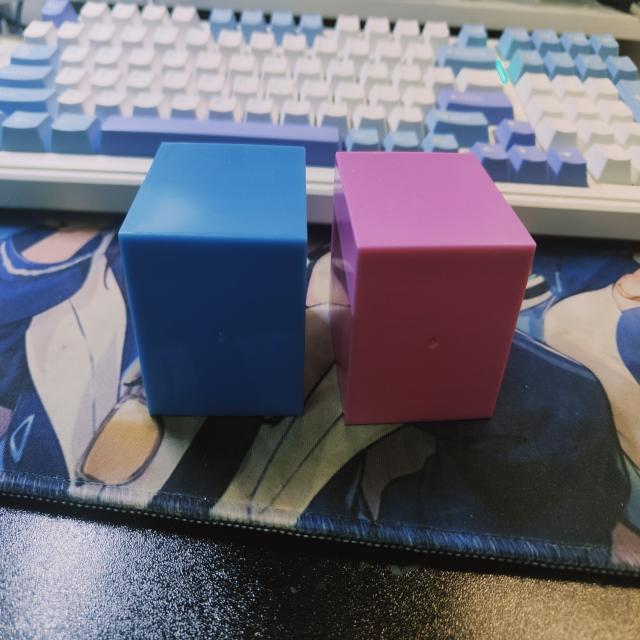blue: (119, 143, 307, 415)
pink: (330, 152, 536, 424)
